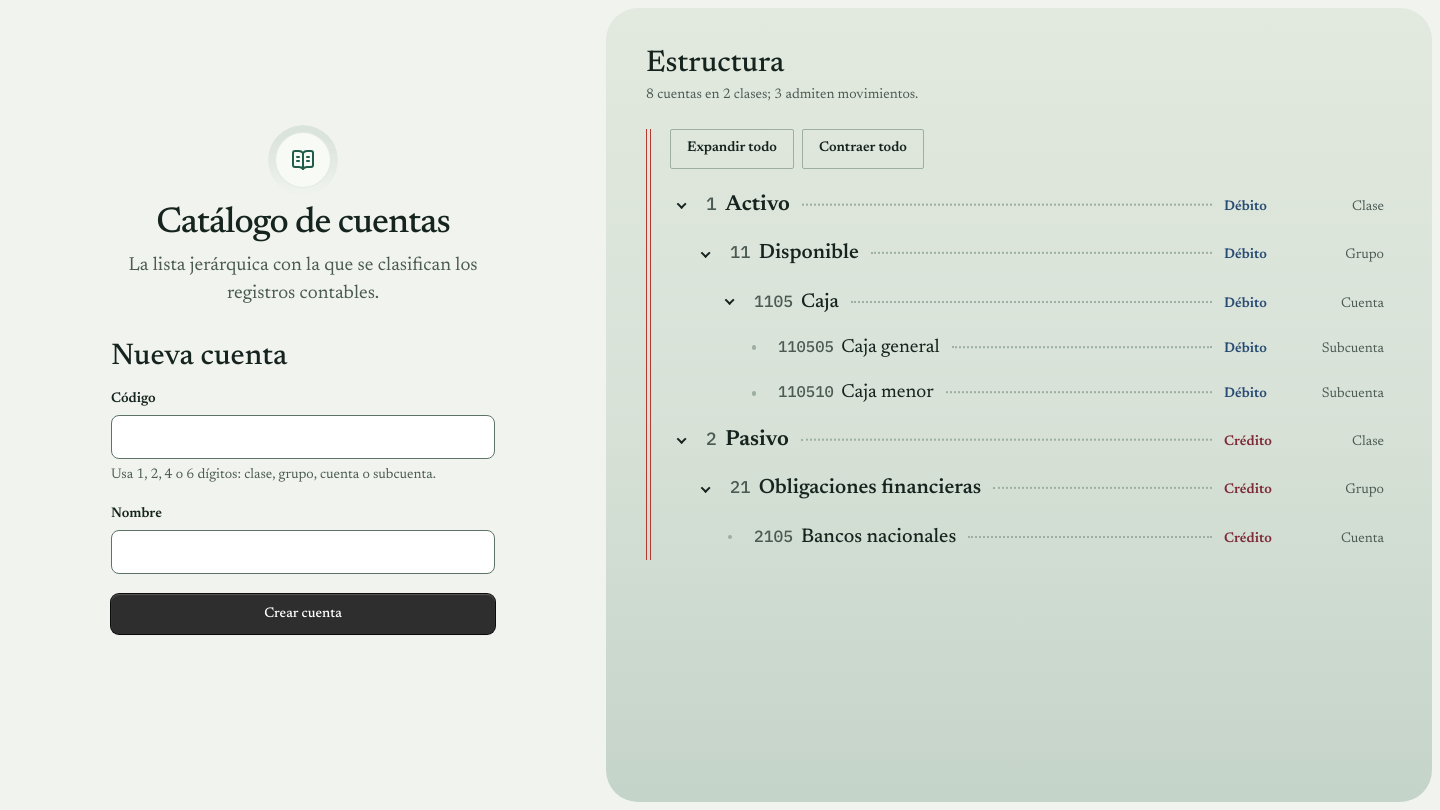
Test case: AccountsPage › deleting › does not touch the API when the user cancels
Expected: the list is shown, x1=670 y1=181 x2=1392 y2=560
Click the text "Caja menor".
click(888, 393)  # box x1=841 y1=378 x2=934 y2=408
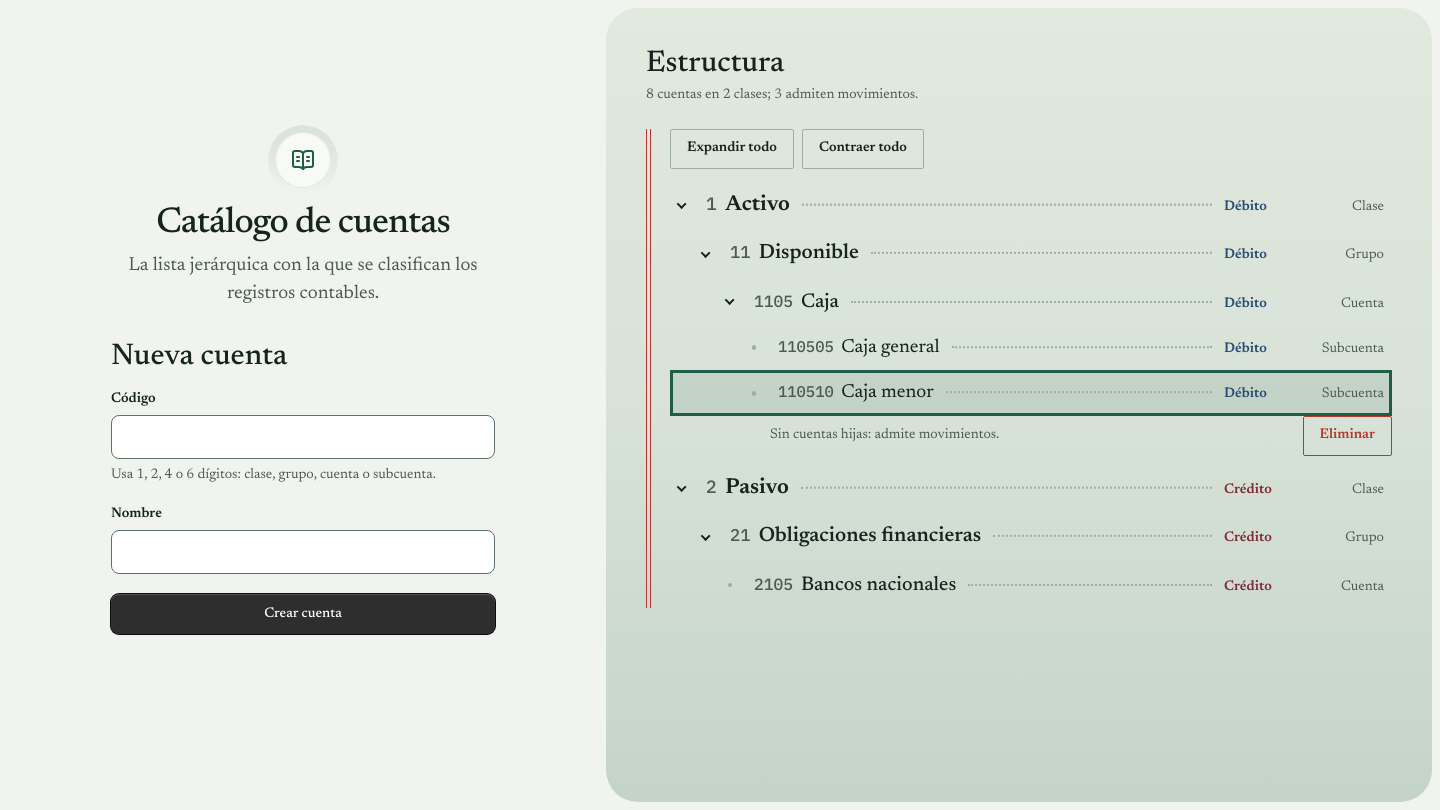
Click the button with aria-label "Eliminar 110510 Caja menor".
click(1347, 436)  # box x1=1303 y1=416 x2=1392 y2=456
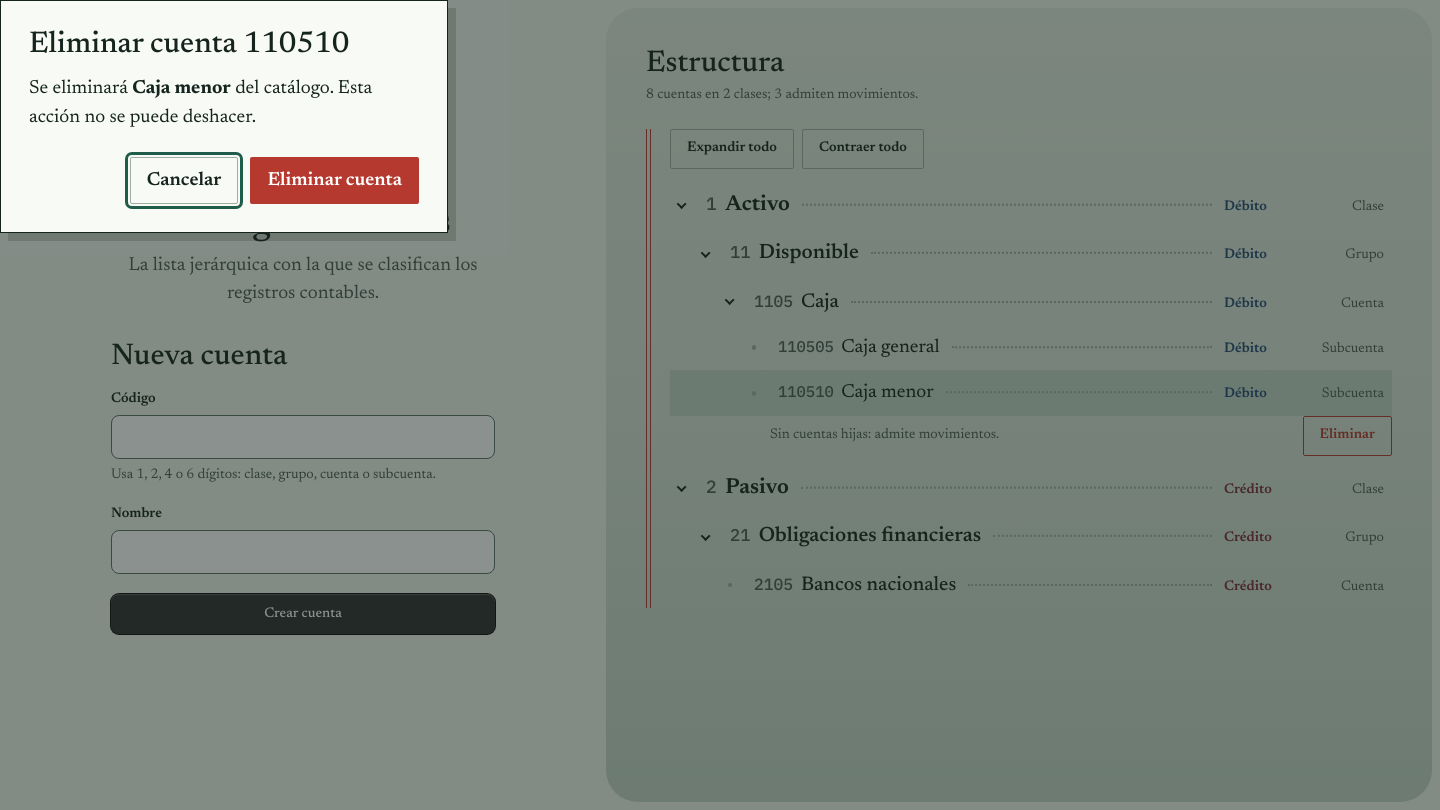
Click the button "Cancelar".
click(184, 180)  # box x1=130 y1=156 x2=238 y2=204
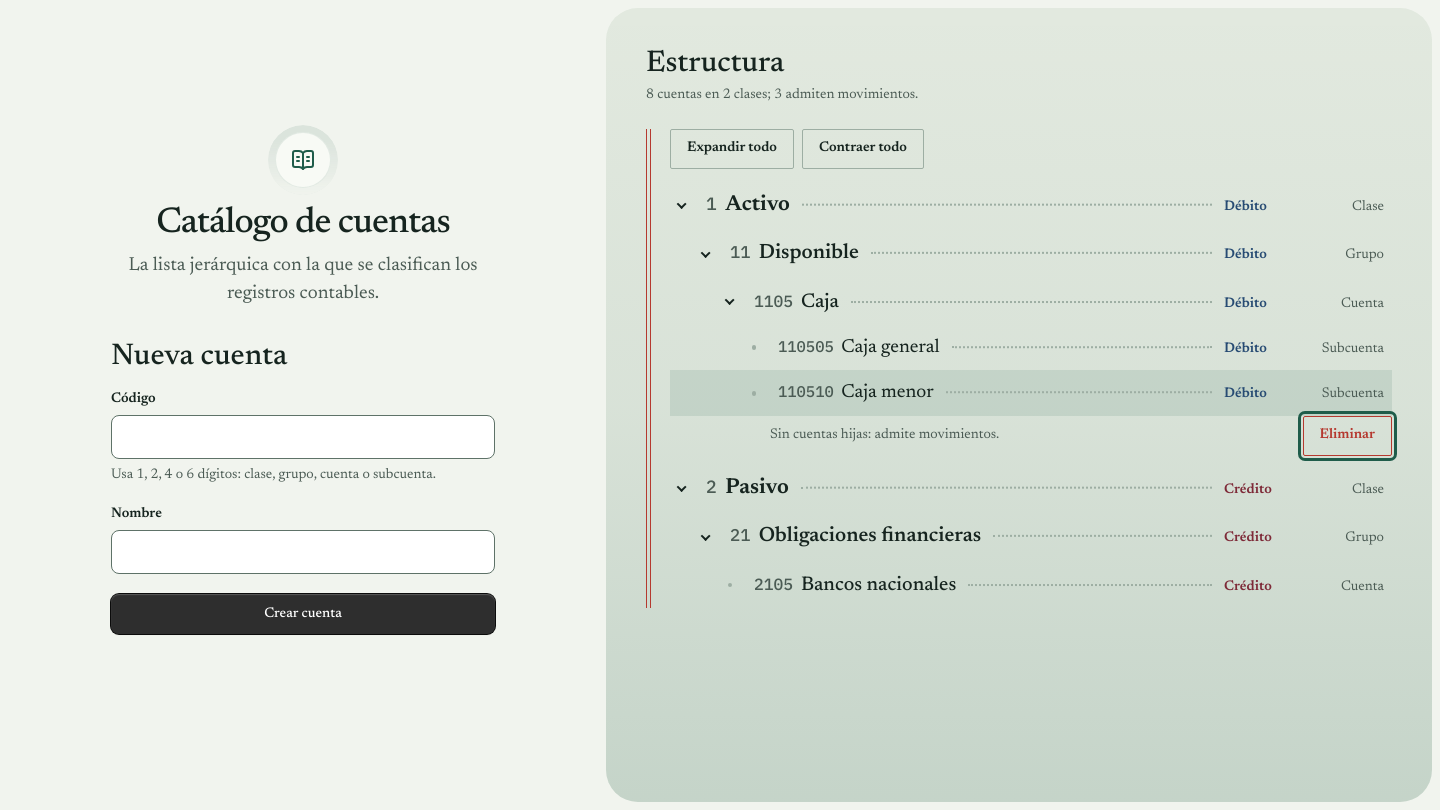
Now the dialog is gone
